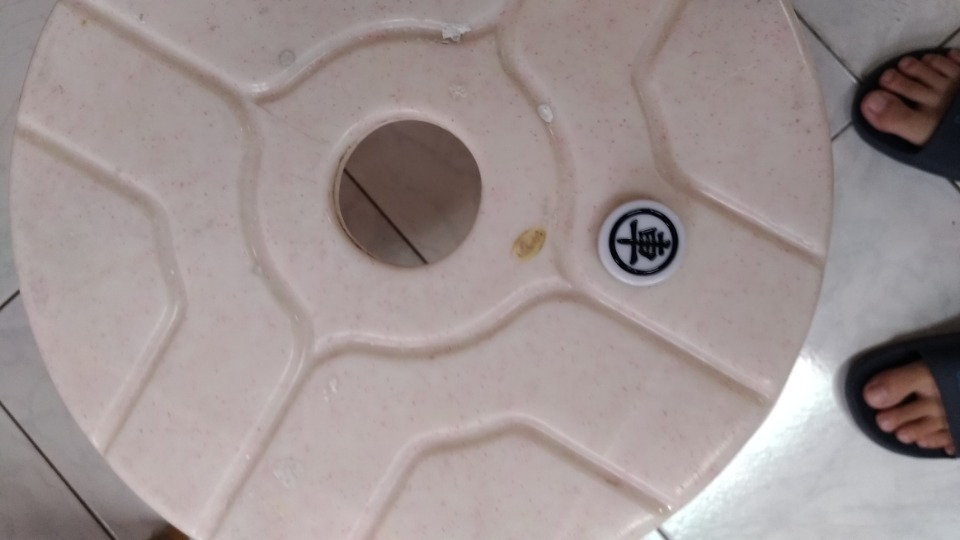b-king: (596, 188, 694, 293)
